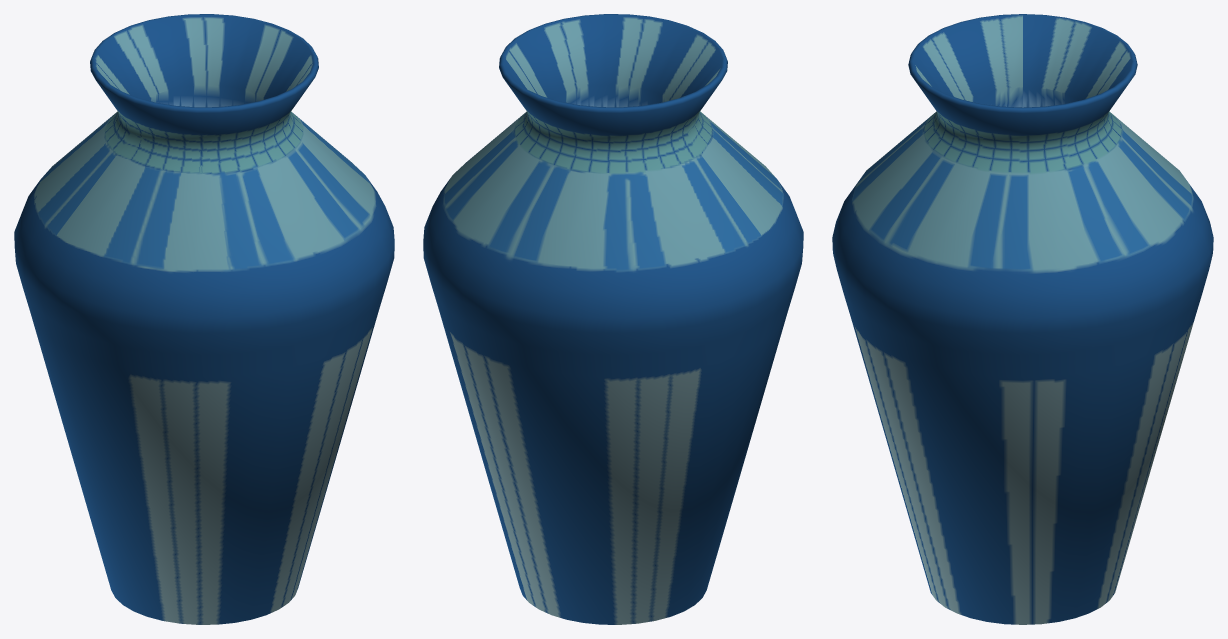
Rendered from vase.fbx.
3 views of the same model, side by side, from view 1: azimuth 30°, elevation 25°; view 2: azimuth 150°, elevation 25°; view 3: azimuth 270°, elevation 25° (orthographic).
Visible parts, largest first — view 1: Cylinder; view 2: Cylinder; view 3: Cylinder.
Boxes of the visible parts, left/top/right/bottom form: Cylinder: left=14, top=14, right=394, bottom=624; Cylinder: left=423, top=14, right=803, bottom=624; Cylinder: left=832, top=14, right=1213, bottom=624.
Size of the model in its own units: 2 by 3.04 by 2.
